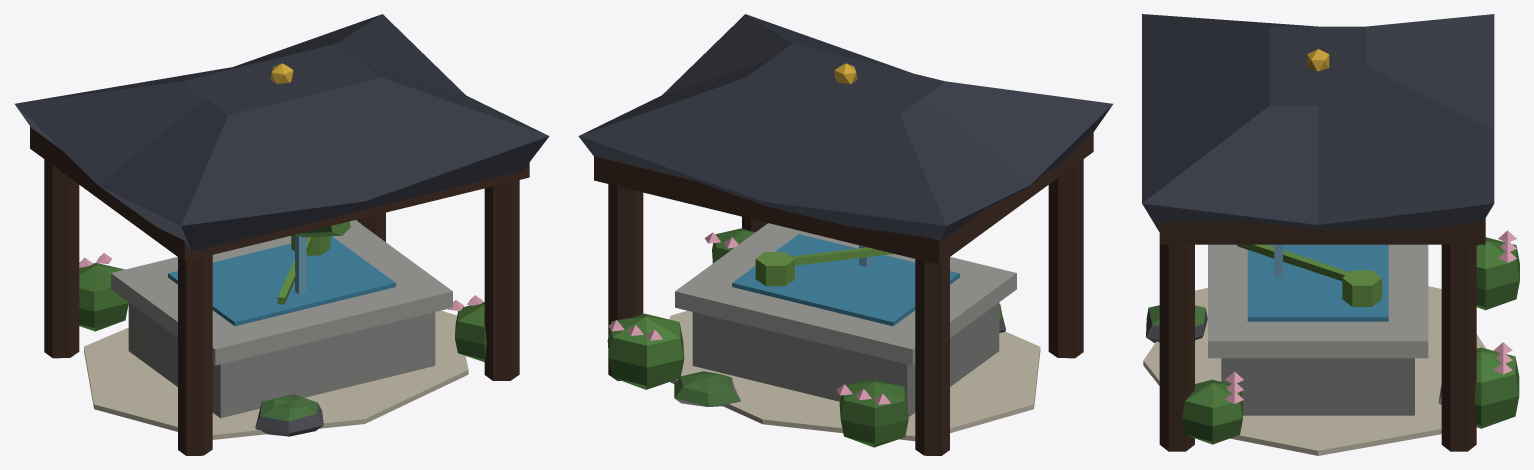
File: Decor_SamuraiShrine_Temizuya.fbx
3 renders of one model, left to right at view 1: azimuth 30°, elevation 25°; view 2: azimuth 150°, elevation 25°; view 3: azimuth 270°, elevation 25°, orthographic. The views are drawn at different scales.
Parts seen in each view (by area): view 1: Temizuya_Body; view 2: Temizuya_Body; view 3: Temizuya_Body.
Boxes of the visible parts, left/top/right/bottom form: Temizuya_Body: left=15, top=14, right=549, bottom=455; Temizuya_Body: left=578, top=14, right=1112, bottom=455; Temizuya_Body: left=1142, top=14, right=1519, bottom=455.
Size of the model in its own units: 9.6 by 7.4 by 8.
